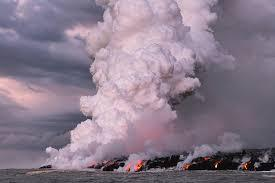smoke: (43, 1, 238, 150)
